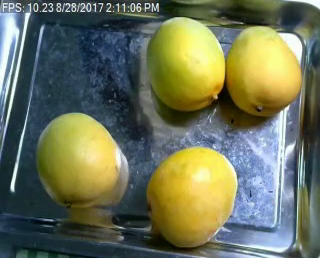Mango: (145, 146, 237, 248), (36, 111, 121, 207), (147, 15, 225, 107), (227, 27, 301, 114)
